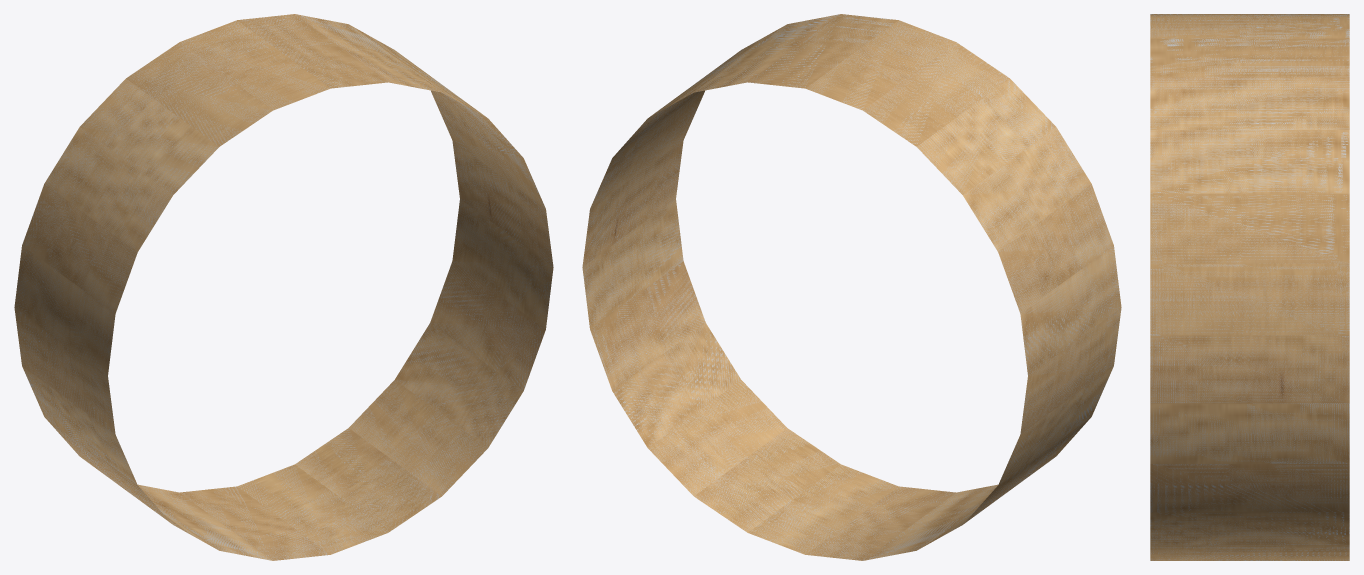
Rendered from original-22.obj.
3 views of the same model, side by side, from view 1: azimuth 30°, elevation 25°; view 2: azimuth 150°, elevation 25°; view 3: azimuth 270°, elevation 25° (orthographic). The views are drawn at different scales.
Visible parts, largest first — view 1: #ID209; view 2: #ID209; view 3: #ID209.
Boxes of the visible parts, x1,y1,x2,y2 form: #ID209: (14,14,553,560); #ID209: (582,14,1121,560); #ID209: (1150,14,1349,560).
Bounding box in the file's own units: 0.1229 × 0.1229 × 0.0447.
